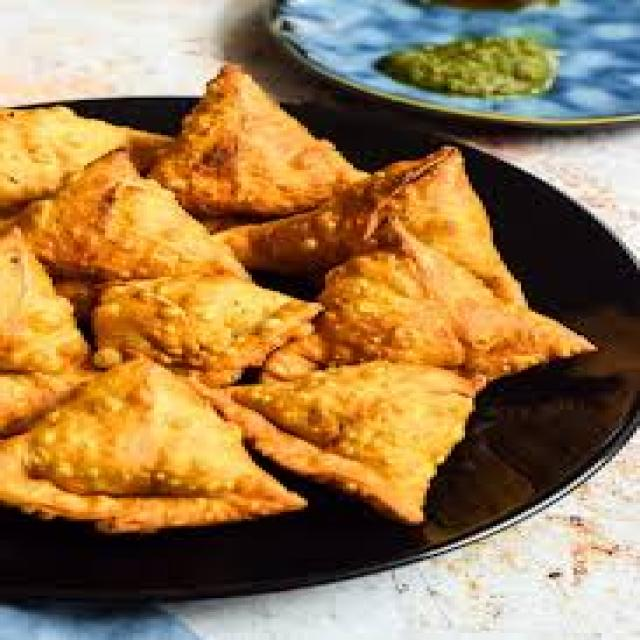SAMOSA: (0, 344, 322, 542), (263, 215, 608, 383), (144, 61, 371, 223)
